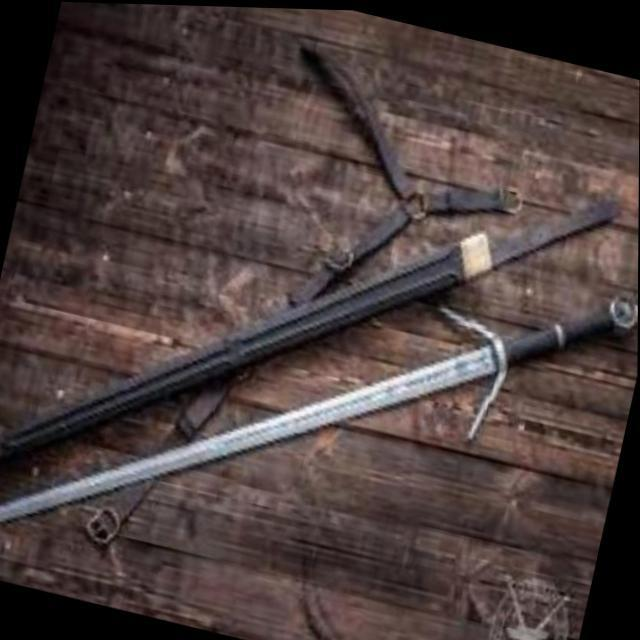weapon: (0, 147, 639, 640)
